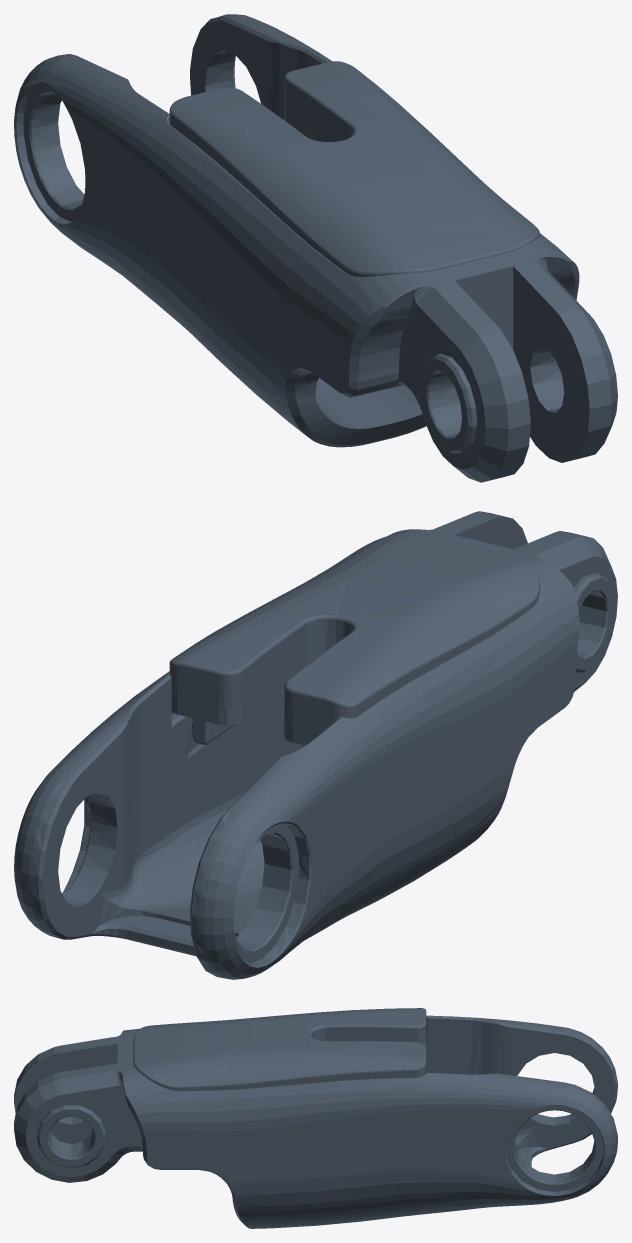
The model's file is L_middle_prox.dae.
3 renders of one model, top to bottom at view 1: azimuth 30°, elevation 25°; view 2: azimuth 150°, elevation 25°; view 3: azimuth 270°, elevation 25°, orthographic. The views are drawn at different scales.
Visible parts, largest first — view 1: L_middle_prox; view 2: L_middle_prox; view 3: L_middle_prox.
Part boxes in pixels (bbox=[...]): L_middle_prox: bbox=[14, 14, 617, 482]; L_middle_prox: bbox=[14, 511, 617, 979]; L_middle_prox: bbox=[14, 1008, 617, 1228].
Size of the model in its own units: 0.0154 by 0.0525 by 0.0177.
